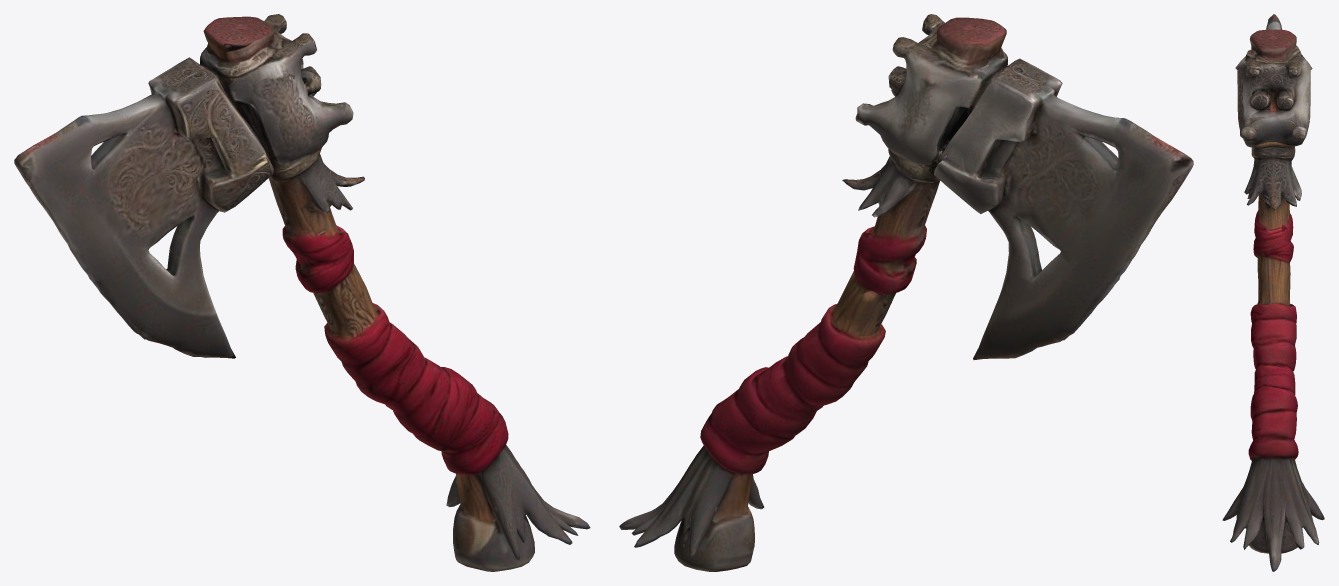
The model's file is PF_Axe2.glb.
The picture shows the model from 3 angles, left to right: view 1: azimuth 30°, elevation 25°; view 2: azimuth 150°, elevation 25°; view 3: azimuth 270°, elevation 25°; orthographic projection. The views are drawn at different scales.
Bounding box in the file's own units: 2 × 1.98 × 0.4382.
Materials: 1 (1 with a texture image).
